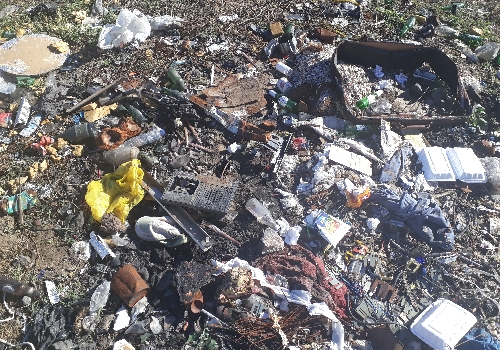trash: (1, 1, 497, 343)
